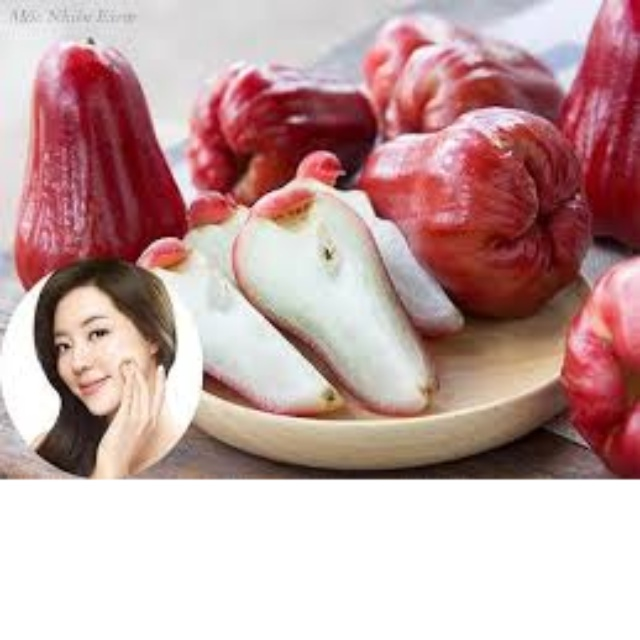xoai: (348, 116, 602, 303), (21, 34, 169, 281)
